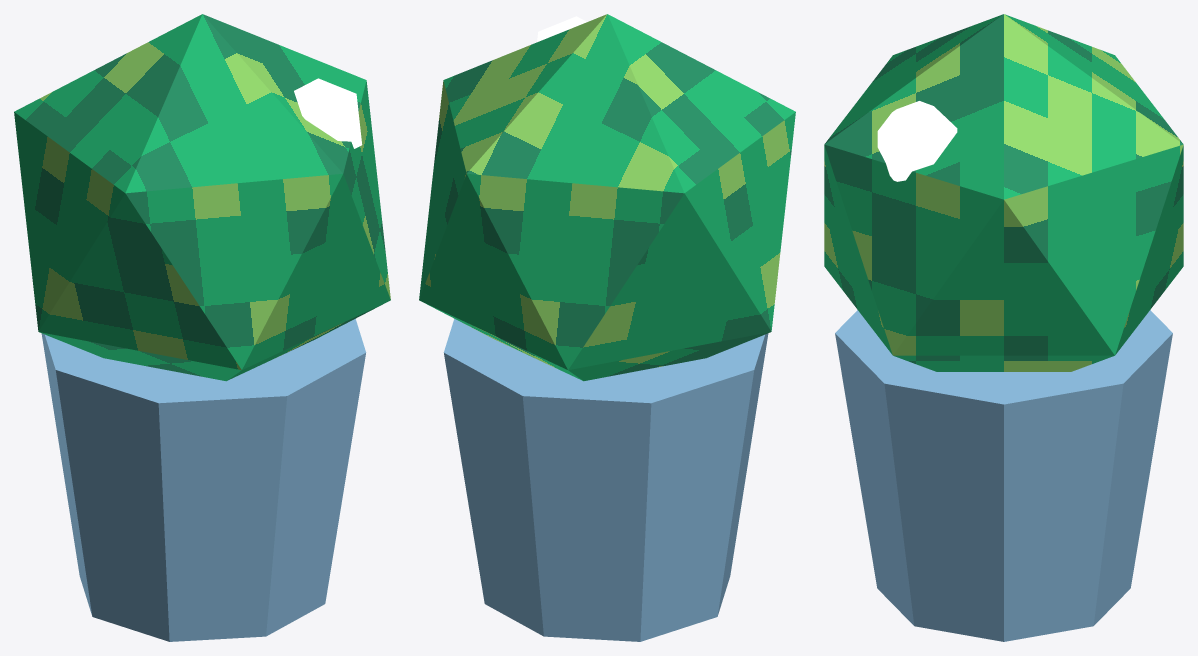
File: movel_b21.glb
3 views of the same model, side by side, from view 1: azimuth 30°, elevation 25°; view 2: azimuth 150°, elevation 25°; view 3: azimuth 270°, elevation 25° (orthographic).
Visible parts, largest first — view 1: movel_b21; view 2: movel_b21; view 3: movel_b21.
Part boxes in pixels (x1,y1,x2,y2): movel_b21: (14, 14, 390, 641); movel_b21: (419, 14, 795, 641); movel_b21: (824, 14, 1183, 641).
Bounding box in the file's own units: 0.5367 × 0.9 × 0.5104.
3 materials, 1 textured.
